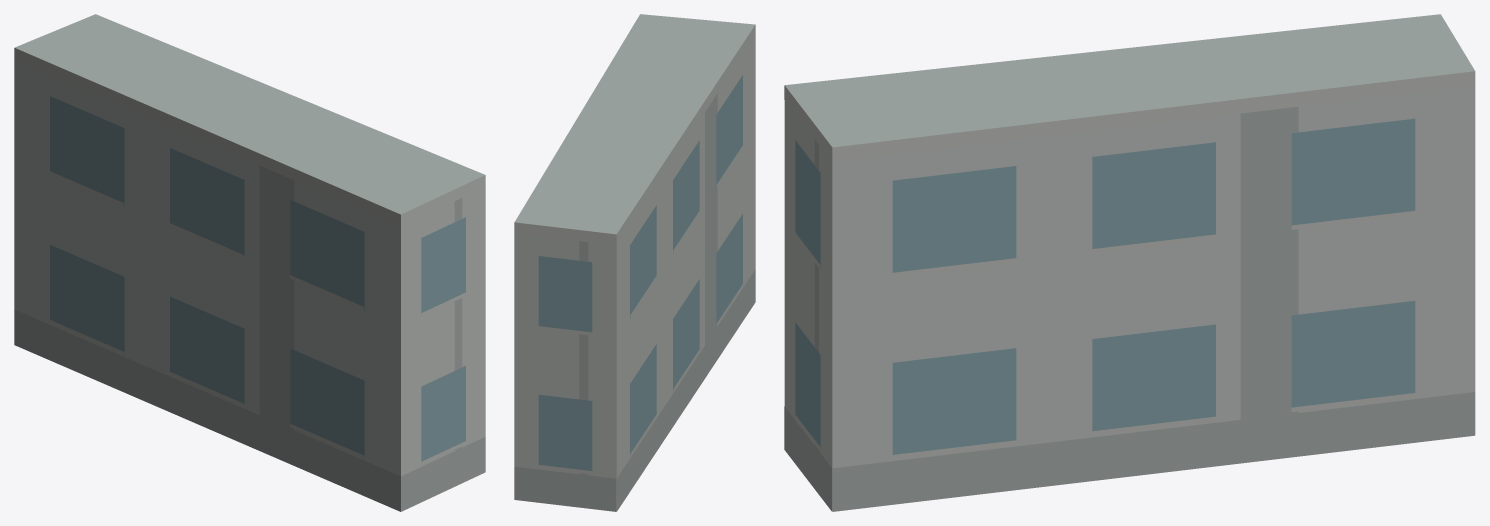
The model's file is survey-upis-32913492.glb.
3 views of the same model, side by side, from view 1: azimuth 30°, elevation 25°; view 2: azimuth 150°, elevation 25°; view 3: azimuth 270°, elevation 25° (orthographic). The views are drawn at different scales.
Visible parts, largest first — view 1: survey-upis-32913492.tmp; view 2: survey-upis-32913492.tmp; view 3: survey-upis-32913492.tmp.
Boxes of the visible parts, box(x1,y1,x2,y2) form: survey-upis-32913492.tmp: box(14, 14, 485, 511); survey-upis-32913492.tmp: box(514, 14, 755, 511); survey-upis-32913492.tmp: box(784, 14, 1475, 511).
Bounding box in the file's own units: 4.8 × 6.1 × 10.49.
